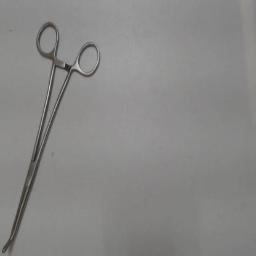Lahey Forceps: (0, 18, 108, 254)
